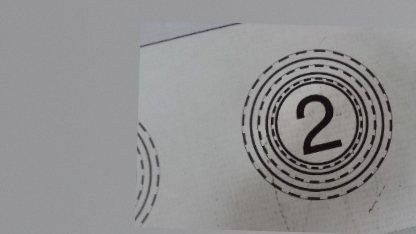2r: (237, 45, 395, 204)
